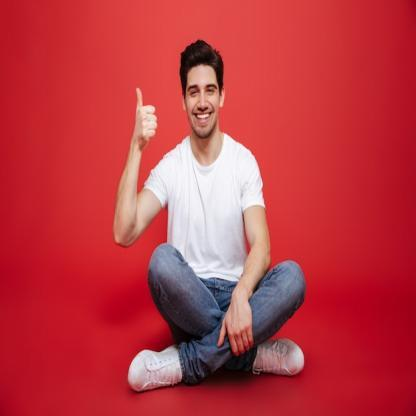thumb_up: (130, 84, 160, 150)
